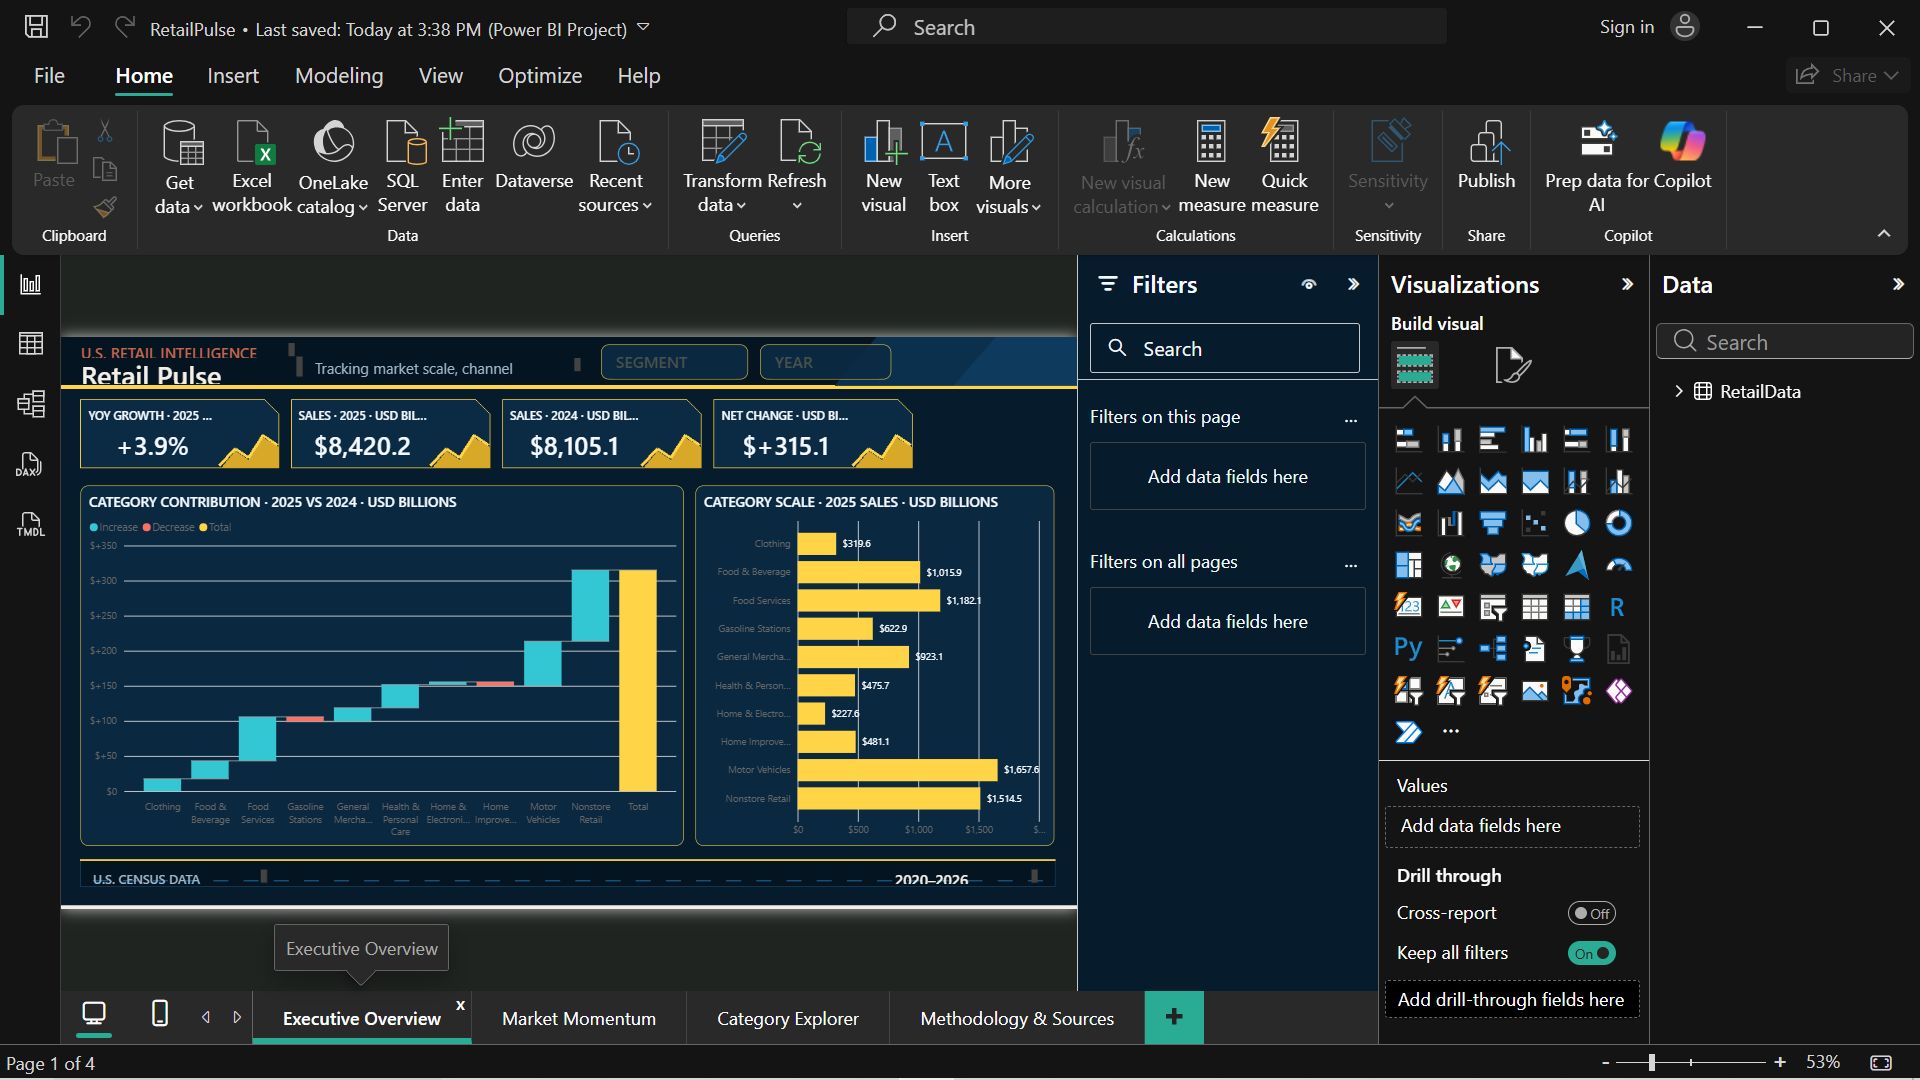

What the dashboard file says about the page in this screenshot:
{"tool":"powerbi","page":{"name":"Executive Overview","canvas":[1280,720],"ordinal":0},"visuals":[{"type":"textbox","box":[24.6,9.4,459.2,41.6],"z":1002},{"type":"textbox","box":[24,30,390,48],"z":1003},{"type":"textbox","box":[24.6,79.4,746.5,52.9],"z":1004},{"type":"textbox","box":[41.6,655.8,230.6,32.1],"z":1005},{"type":"textbox","box":[1035.6,655.8,189,32.1],"z":1006},{"type":"slicer","fields":{"Values":["RetailData.Segment"]},"box":[859.8,9.4,206,83.2],"z":1007},{"type":"slicer","fields":{"Values":["RetailData.Year"]},"box":[1071.5,9.4,179.5,83.2],"z":1008},{"type":"card","title":"SELECTED CATEGORIES · YOY GROWTH","fields":{"Values":["RetailData.Latest Complete YoY Growth"]},"box":[24,132,250,105],"z":1009},{"type":"card","title":"2025 SELECTED SALES · USD BILLIONS","fields":{"Values":["RetailData.Latest Complete Sales B"]},"box":[290,132,250,105],"z":1010},{"type":"card","title":"2024 SELECTED SALES · USD BILLIONS","fields":{"Values":["RetailData.Latest Complete Prior Sales B"]},"box":[556,132,250,105],"z":1011},{"type":"card","title":"SELECTED NET CHANGE · USD BILLIONS","fields":{"Values":["RetailData.Latest Complete Change B"]},"box":[822,132,250,105],"z":1012},{"type":"waterfallChart","title":"CATEGORY CONTRIBUTION · 2025 VS 2024 · USD BILLIONS","fields":{"Category":["RetailData.Category"],"Y":["RetailData.Latest Complete Change B Display"]},"box":[24,255,760,385],"z":1013},{"type":"clusteredBarChart","title":"CATEGORY SCALE · 2025 SALES · USD BILLIONS","fields":{"Category":["RetailData.Category"],"Y":["RetailData.Latest Complete Sales B Display"]},"box":[800,255,452,385],"z":1014}]}

Visuals, with their boxes on the page's 1280x720 design canvas (x1, y1, x2, y2). These are canvas units, not pixel positions in the 1920x1080 screenshot, which may show the page scaled, cropped or inside an application window:
textbox: <box>25,9,484,51</box>
textbox: <box>24,30,414,78</box>
textbox: <box>25,79,771,132</box>
textbox: <box>42,656,272,688</box>
textbox: <box>1036,656,1225,688</box>
slicer - RetailData.Segment: <box>860,9,1066,93</box>
slicer - RetailData.Year: <box>1072,9,1251,93</box>
"SELECTED CATEGORIES · YOY GROWTH" card: <box>24,132,274,237</box>
"2025 SELECTED SALES · USD BILLIONS" card: <box>290,132,540,237</box>
"2024 SELECTED SALES · USD BILLIONS" card: <box>556,132,806,237</box>
"SELECTED NET CHANGE · USD BILLIONS" card: <box>822,132,1072,237</box>
"CATEGORY CONTRIBUTION · 2025 VS 2024 · USD BILLIONS" waterfallChart: <box>24,255,784,640</box>
"CATEGORY SCALE · 2025 SALES · USD BILLIONS" clusteredBarChart: <box>800,255,1252,640</box>
